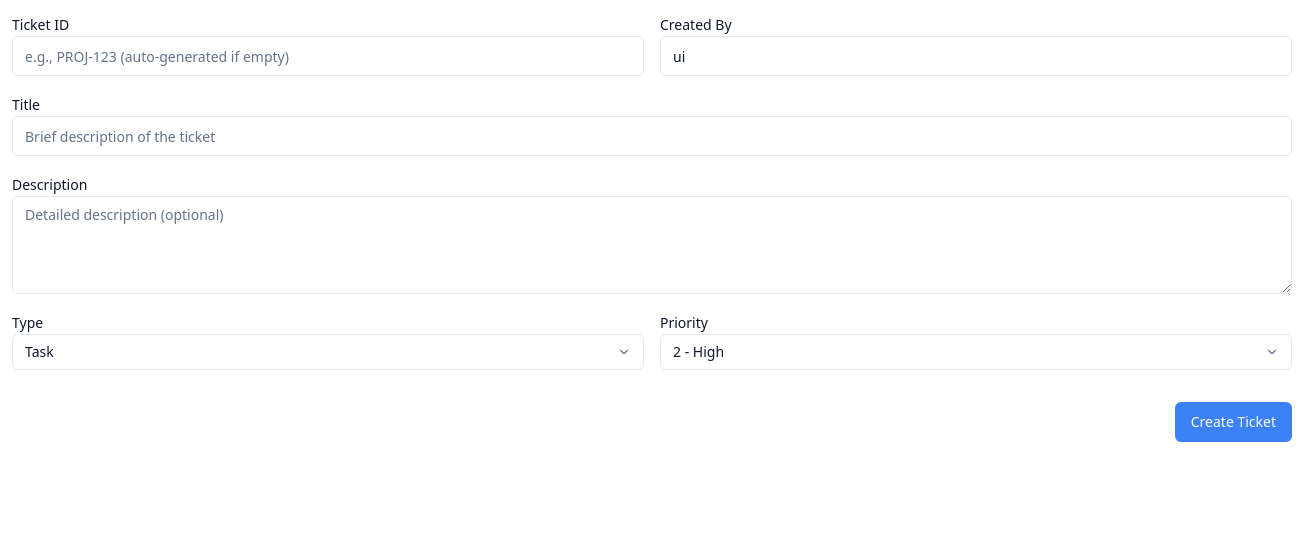
Test: TicketForm - Dropdown (Controller) integration › Type dropdown › renders all 4 type options when opened
What coordinates should you click on to do the following:
click the button "Task"
I would click on:
 (39, 352)
Its box is [12,334,644,370].
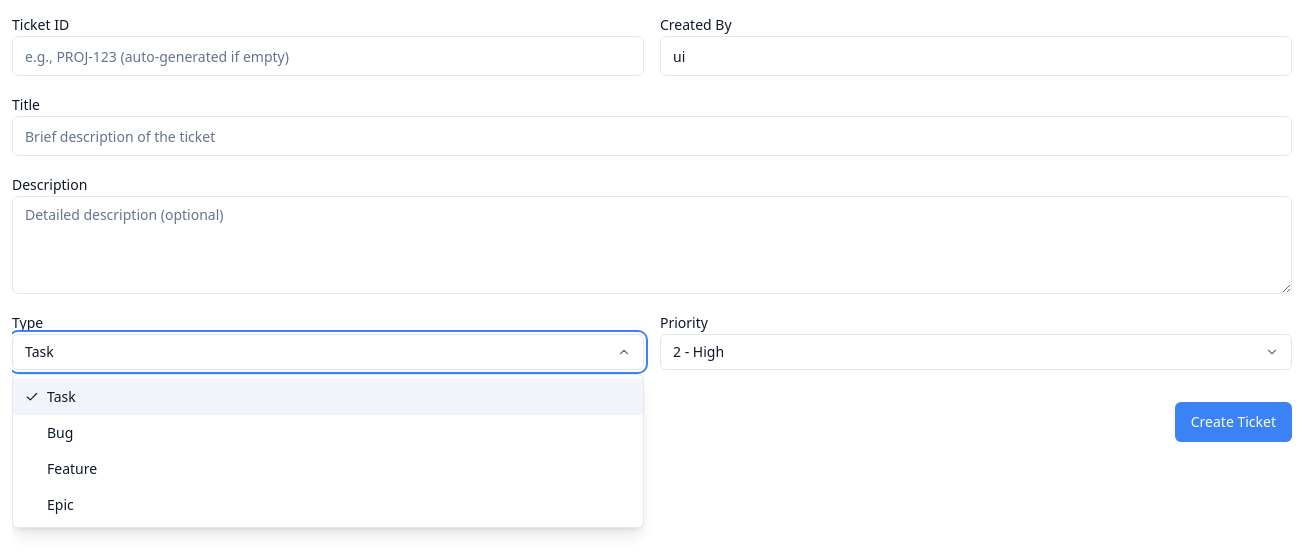
Expected: the text "Bug" is shown, [47,423,73,443]
Expected: the text "Feature" is shown, [47,459,97,479]
Expected: the text "Epic" is shown, [47,495,74,515]
